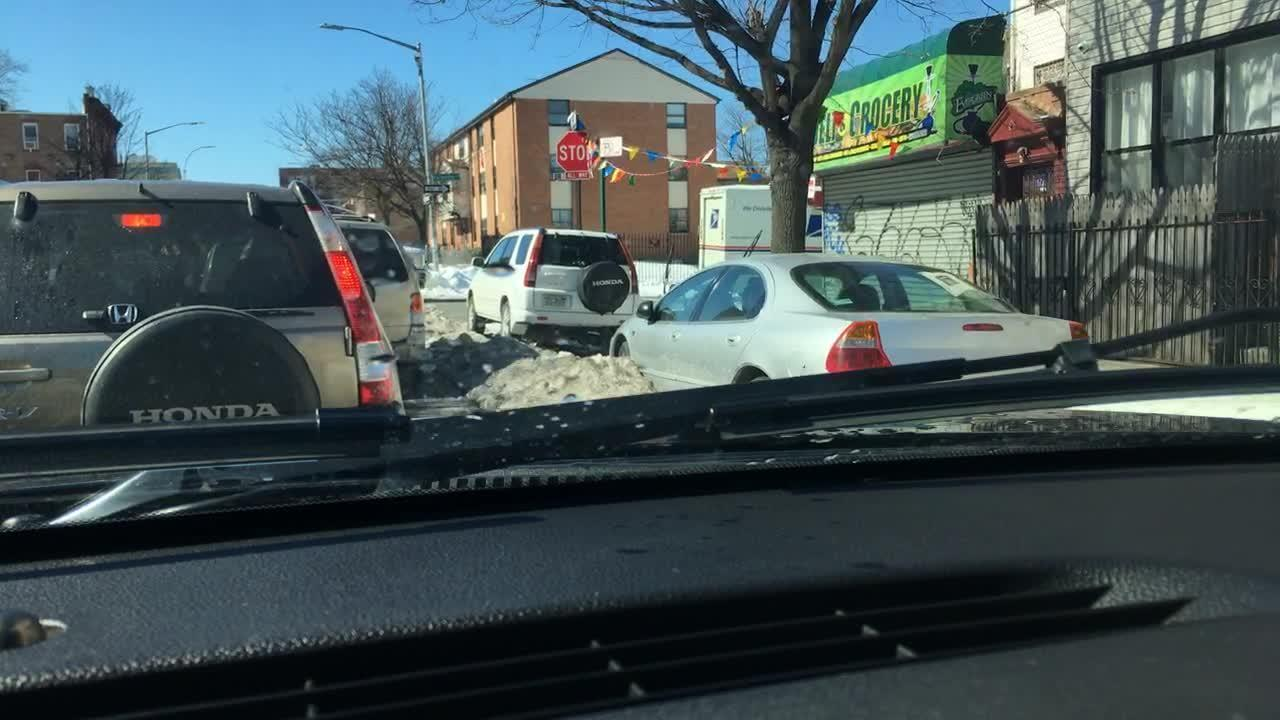Honda: (125, 389, 310, 429), (104, 296, 143, 334), (586, 270, 627, 294)
